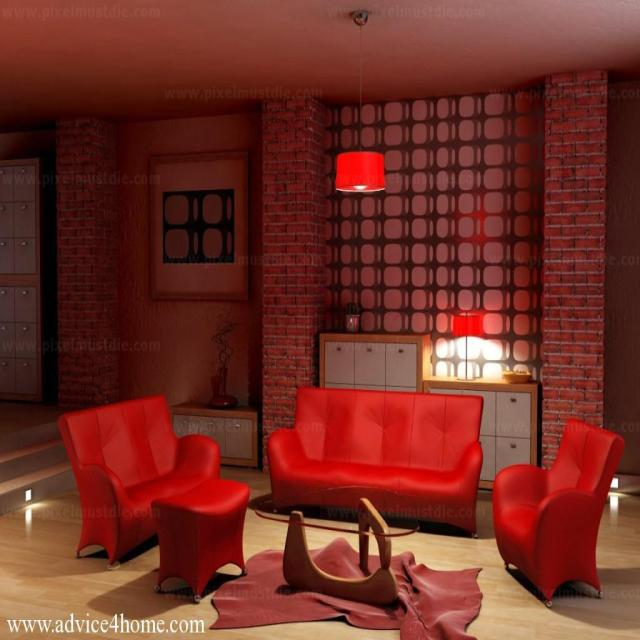other: (325, 136, 396, 216), (440, 306, 493, 376)
